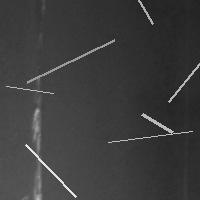scratches: (22, 35, 119, 87), (20, 139, 80, 200), (28, 76, 45, 200), (103, 126, 197, 147), (163, 59, 200, 107), (137, 109, 177, 137), (1, 81, 58, 98), (128, 0, 158, 29)
